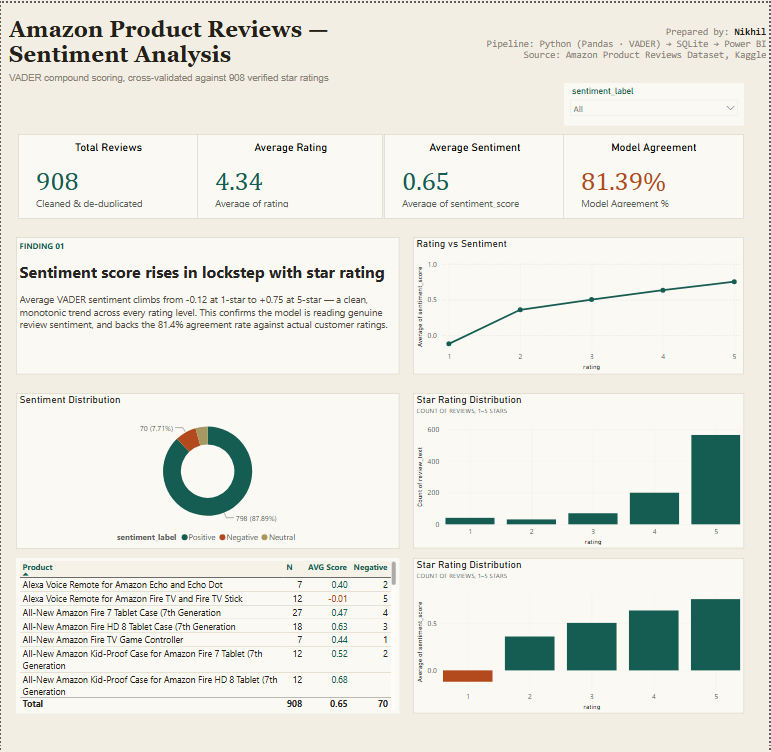

Layout of this report page (visuals, bound fields, positions):
{"tool":"powerbi","page":{"name":"Page 1","canvas":[1280,1250],"ordinal":0},"visuals":[{"type":"cardVisual","title":"Total Reviews","fields":{"Data":["CountNonNull(amazon_reviews_cleaned.review_text)"]},"box":[27.9,219,300,141.4],"z":0},{"type":"textbox","box":[8.6,0,552.7,112.5],"z":1000},{"type":"textbox","box":[8.6,111.3,601.4,57.1],"z":2000},{"type":"textbox","box":[1090,32.9,190,41.4],"z":3000},{"type":"textbox","box":[763,53.8,517.3,68.5],"z":4000},{"type":"cardVisual","title":"Average Rating","fields":{"Data":["Avg(amazon_reviews_cleaned.rating)"]},"box":[327.5,219,310.4,141.4],"z":5000},{"type":"cardVisual","title":"Average Sentiment","fields":{"Data":["Avg(amazon_reviews_cleaned.sentiment_score)"]},"box":[637.9,219,301.2,141.2],"z":6000},{"type":"cardVisual","title":"Model Agreement","fields":{"Data":["amazon_reviews_cleaned.Model Agreement %"]},"box":[936.4,219,301.4,141.4],"z":7000},{"type":"textbox","box":[25,390.5,638.6,228.6],"z":8000},{"type":"lineChart","title":"Rating vs Sentiment","fields":{"Y":["Avg(amazon_reviews_cleaned.sentiment_score)"],"Category":["amazon_reviews_cleaned.rating"]},"box":[686.4,390.5,551.4,228.6],"z":9000},{"type":"donutChart","title":"Sentiment Distribution","fields":{"Category":["amazon_reviews_cleaned.sentiment_label"],"Y":["CountNonNull(amazon_reviews_cleaned.review_text)"]},"box":[25,650.8,638.8,260],"z":10000},{"type":"tableEx","fields":{"Values":["amazon_reviews_cleaned.product_name","amazon_reviews_cleaned.review_text","Avg(amazon_reviews_cleaned.sentiment_score)","amazon_reviews_cleaned.Negative Count"]},"box":[25,925,638.8,258.8],"z":11000},{"type":"columnChart","title":"Star Rating Distribution","fields":{"Category":["amazon_reviews_cleaned.rating"],"Y":["CountNonNull(amazon_reviews_cleaned.review_text)"]},"box":[686.3,650.6,552,259.5],"z":12000},{"type":"clusteredColumnChart","title":"Star Rating Distribution","fields":{"Category":["amazon_reviews_cleaned.rating"],"Y":["Avg(amazon_reviews_cleaned.sentiment_score)"]},"box":[685.9,924.2,552,259.5],"z":13000},{"type":"slicer","fields":{"Values":["amazon_reviews_cleaned.sentiment_label"]},"box":[938.8,132.5,300,71.2],"z":13001}]}

Visuals, with their boxes in screenshot pixels (x1, y1, x2, y2), scaled from the page's 1280x1250 canvas onto the 771x752 screenshot:
"Total Reviews" cardVisual: <bbox>17, 132, 198, 217</bbox>
textbox: <bbox>5, 0, 338, 68</bbox>
textbox: <bbox>5, 67, 367, 101</bbox>
textbox: <bbox>657, 20, 770, 45</bbox>
textbox: <bbox>460, 32, 770, 74</bbox>
"Average Rating" cardVisual: <bbox>197, 132, 384, 217</bbox>
"Average Sentiment" cardVisual: <bbox>384, 132, 566, 217</bbox>
"Model Agreement" cardVisual: <bbox>564, 132, 746, 217</bbox>
textbox: <bbox>15, 235, 400, 372</bbox>
"Rating vs Sentiment" lineChart: <bbox>413, 235, 746, 372</bbox>
"Sentiment Distribution" donutChart: <bbox>15, 392, 400, 548</bbox>
tableEx - amazon_reviews_cleaned.product_name x amazon_reviews_cleaned.review_text: <bbox>15, 556, 400, 712</bbox>
"Star Rating Distribution" columnChart: <bbox>413, 391, 746, 548</bbox>
"Star Rating Distribution" clusteredColumnChart: <bbox>413, 556, 746, 712</bbox>
slicer - amazon_reviews_cleaned.sentiment_label: <bbox>565, 80, 746, 123</bbox>
